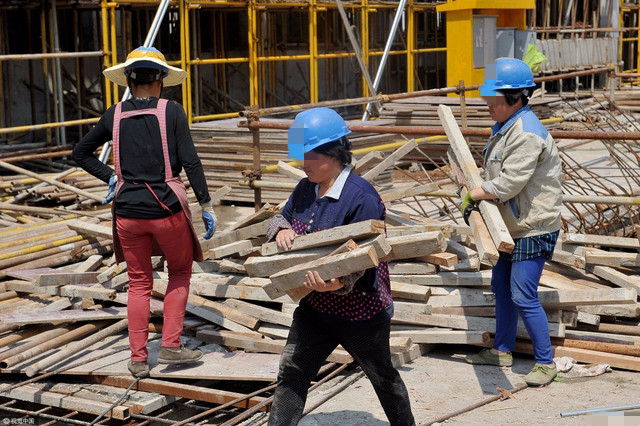helmet: (287, 107, 352, 161), (484, 57, 536, 96)
person: (70, 43, 219, 382), (266, 104, 420, 426), (457, 53, 568, 389)
